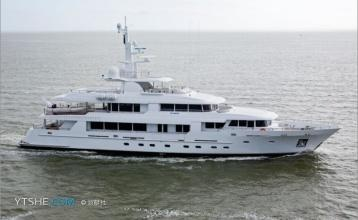yacht: (15, 16, 345, 158)
